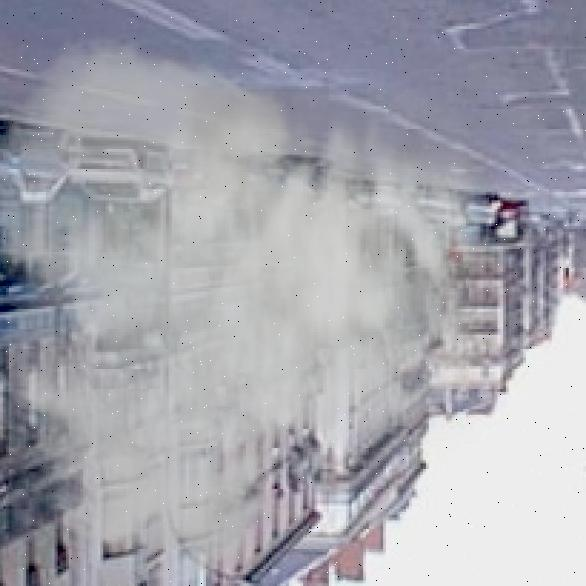smoke: (0, 32, 518, 586)
